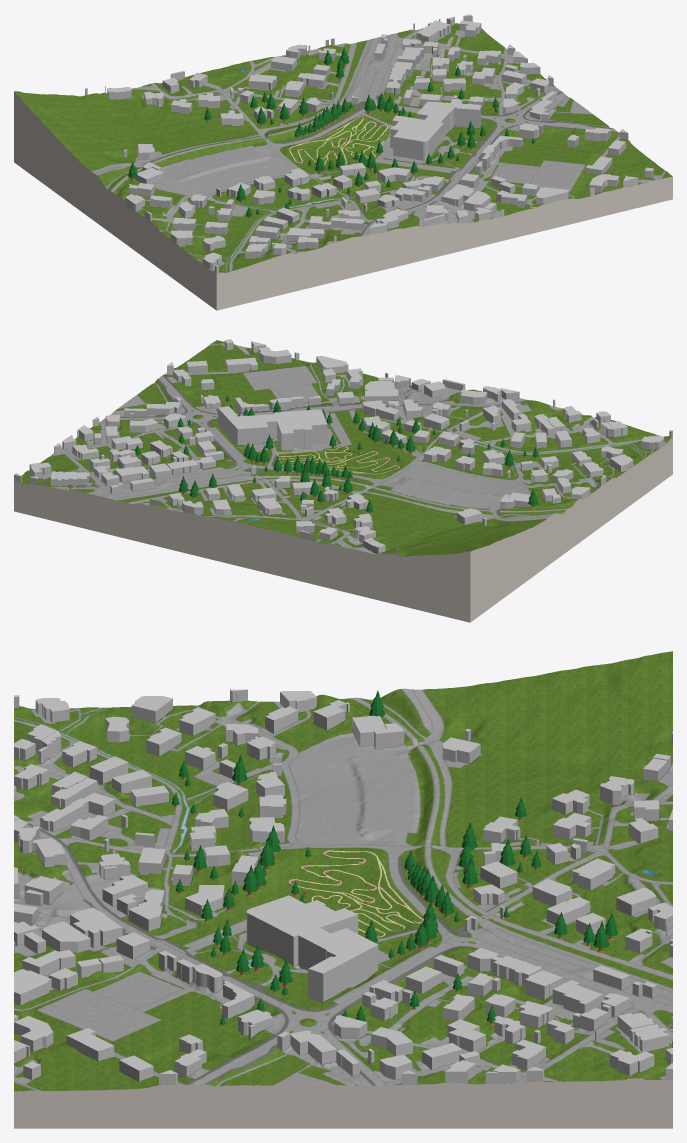
The model's file is mtb-skillcenter_celerina.glb.
The picture shows the model from 3 angles, top to bottom: view 1: azimuth 30°, elevation 25°; view 2: azimuth 150°, elevation 25°; view 3: azimuth 270°, elevation 25°; orthographic projection. The views are drawn at different scales.
Parts seen in each view (by area): view 1: swiss_1257_1_4238, BB_Bodenbedeckung_4231, side_4232, side_4234, 02_Trails_970; view 2: swiss_1257_1_4238, BB_Bodenbedeckung_4231, side_4233, side_4234, 02_Trails_970; view 3: swiss_1257_1_4238, BB_Bodenbedeckung_4231, side_4235, 02_Trails_970.
Boxes of the visible parts, box(x1,y1,x2,y2) form: swiss_1257_1_4238: box(14, 23, 672, 272); BB_Bodenbedeckung_4231: box(85, 14, 653, 273); side_4232: box(216, 176, 672, 310); side_4234: box(14, 91, 216, 310); 02_Trails_970: box(289, 117, 388, 163); swiss_1257_1_4238: box(21, 340, 670, 556); BB_Bodenbedeckung_4231: box(14, 339, 672, 555); side_4233: box(14, 481, 470, 622); side_4234: box(470, 437, 672, 622); 02_Trails_970: box(277, 446, 399, 474); swiss_1257_1_4238: box(14, 651, 672, 1091); BB_Bodenbedeckung_4231: box(14, 689, 672, 1085); side_4235: box(14, 1078, 672, 1128); 02_Trails_970: box(297, 850, 421, 937).
Size of the model in its own units: 100 by 14.89 by 76.94.
16 materials, 2 textured.
